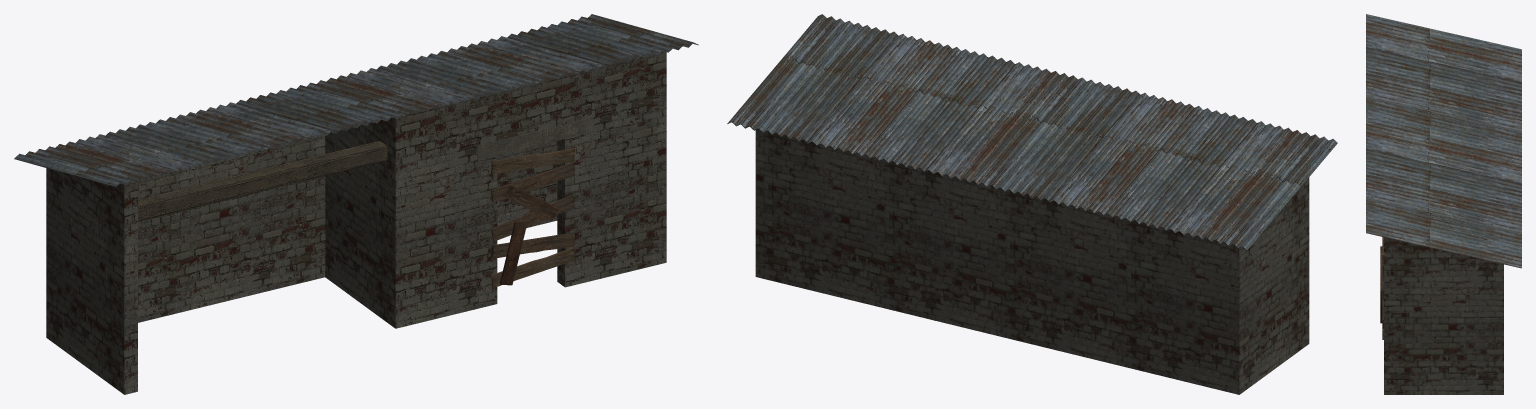
The model's file is shed_ax_3.obj.
The picture shows the model from 3 angles, left to right: view 1: azimuth 30°, elevation 25°; view 2: azimuth 150°, elevation 25°; view 3: azimuth 270°, elevation 25°; orthographic projection. The views are drawn at different scales.
Parts seen in each view (by area): view 1: shed_ax_3; view 2: shed_ax_3; view 3: shed_ax_3.
Boxes of the visible parts, x1,y1,x2,y2 form: shed_ax_3: (14,14,698,394); shed_ax_3: (727,14,1337,394); shed_ax_3: (1366,14,1521,394).
Size of the model in its own units: 8.59 by 3.17 by 2.6.
